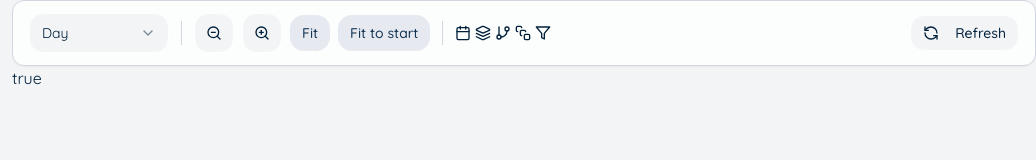
Test case: TimelineToolbar › allows dependencies to be toggled back on
Click the button named "toggle dependencies". click: [504, 33]
box: [496,25,512,41]
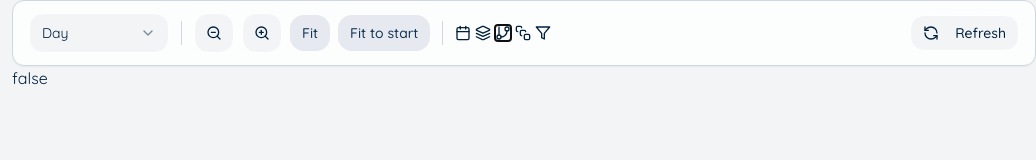
Expected: the text with test id "dependencies-state" reads "false", [12,68,48,88]
Click the button named "toggle dependencies". click: [504, 33]
box: [496,25,512,41]
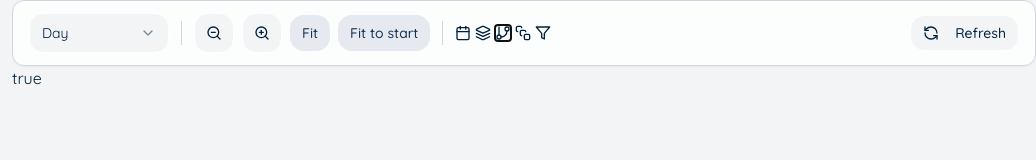
Expected: the text with test id "dependencies-state" reads "true", [12,68,42,88]
